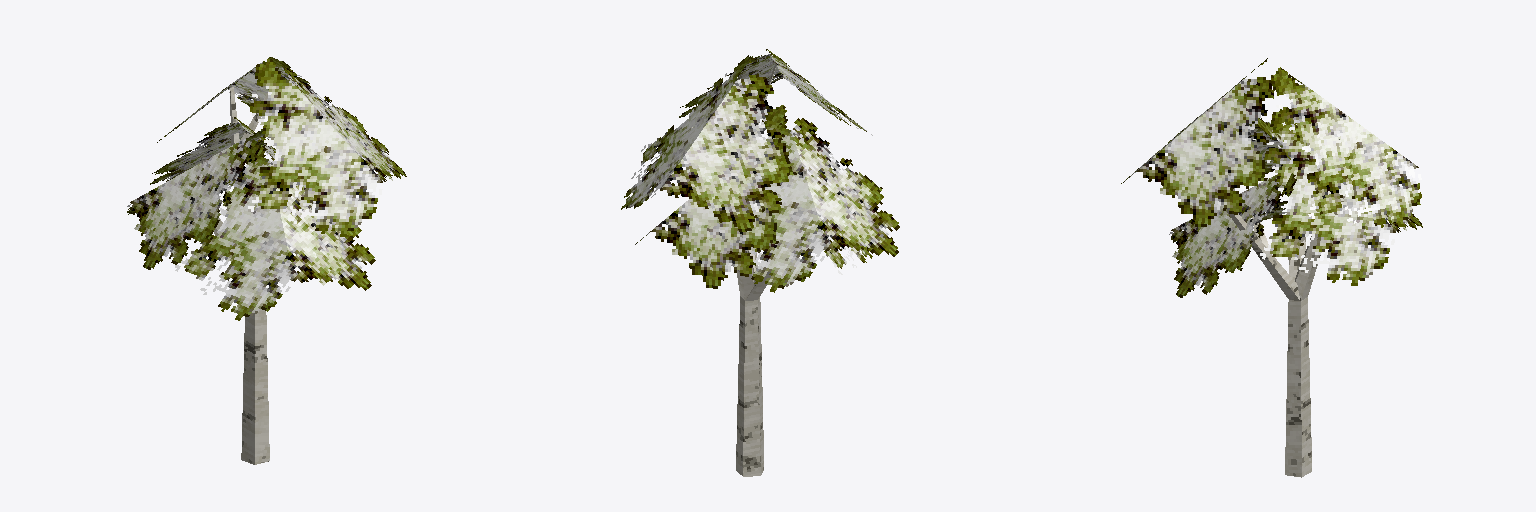
3 views of the same model, side by side, from view 1: azimuth 30°, elevation 25°; view 2: azimuth 150°, elevation 25°; view 3: azimuth 270°, elevation 25° (orthographic).
Parts seen in each view (by area): view 1: birchsno_0; view 2: birchsno_0; view 3: birchsno_0.
Part boxes in pixels (x1,y1,x2,y2): birchsno_0: (127,57,406,464); birchsno_0: (621,49,899,476); birchsno_0: (1121,58,1422,477).
Bounding box in the file's own units: 3.26 × 4.91 × 4.22.
Materials: 2 (2 with a texture image).